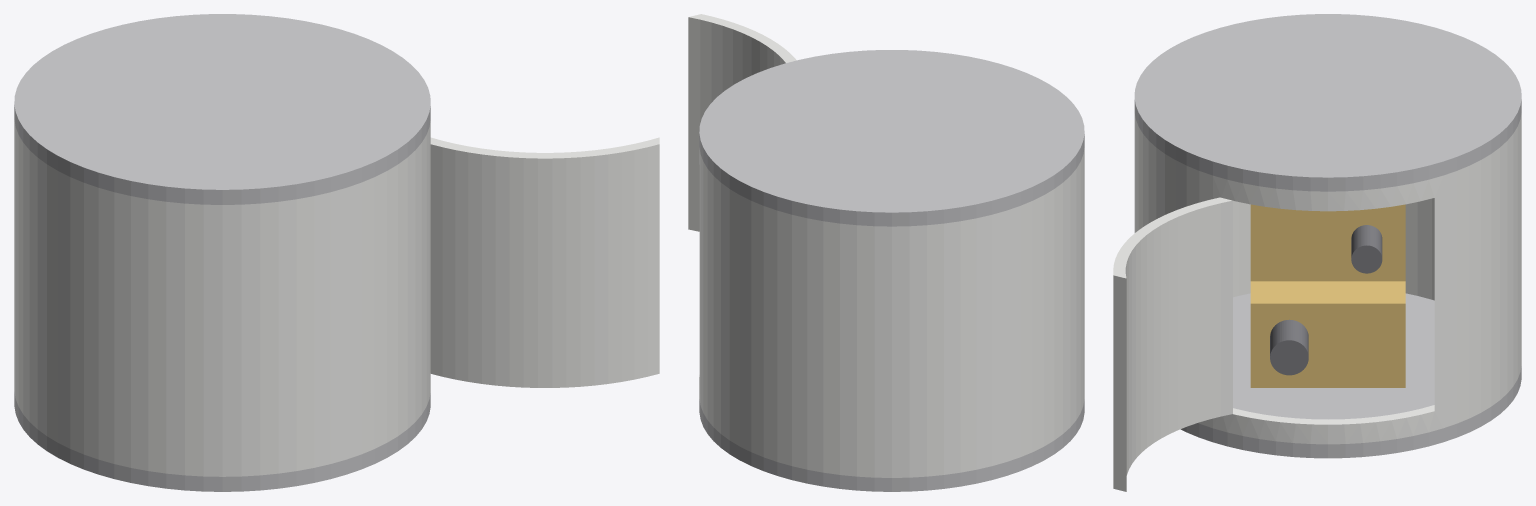
File: sci03_science_bay_s_door_open.glb
The picture shows the model from 3 angles, left to right: view 1: azimuth 30°, elevation 25°; view 2: azimuth 150°, elevation 25°; view 3: azimuth 270°, elevation 25°; orthographic projection. The views are drawn at different scales.
Parts seen in each view (by area): view 1: shell, end_rings, door; view 2: shell, end_rings, door; view 3: end_rings, shell, door, instruments, instrument_heads.
Boxes of the visible parts, <box> form: shell: <box>14,120,430,476</box>; end_rings: <box>14,14,430,491</box>; door: <box>430,137,659,387</box>; shell: <box>699,148,1084,477</box>; end_rings: <box>699,50,1084,491</box>; door: <box>688,14,796,231</box>; end_rings: <box>1134,14,1521,458</box>; shell: <box>1134,113,1521,444</box>; door: <box>1113,197,1232,491</box>; instruments: <box>1250,204,1405,387</box>; instrument_heads: <box>1270,225,1382,375</box>.
Size of the model in its own units: 1.76 by 1 by 1.32.
